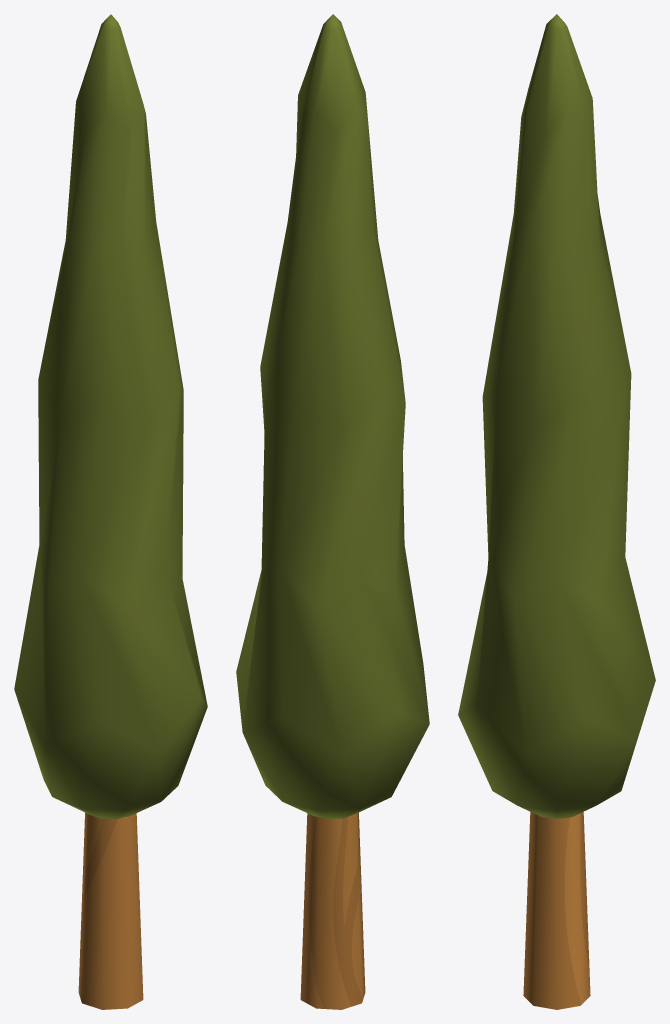
Rendered from Arvore_6.fbx.
The picture shows the model from 3 angles, left to right: view 1: azimuth 30°, elevation 25°; view 2: azimuth 150°, elevation 25°; view 3: azimuth 270°, elevation 25°; orthographic projection.
Parts seen in each view (by area): view 1: Arvore_6; view 2: Arvore_6; view 3: Arvore_6.
Boxes of the visible parts, x1,y1,x2,y2 form: Arvore_6: [14, 14, 207, 1009]; Arvore_6: [236, 14, 429, 1009]; Arvore_6: [458, 14, 655, 1009].
Bounding box in the file's own units: 48.65 × 280 × 51.16.
